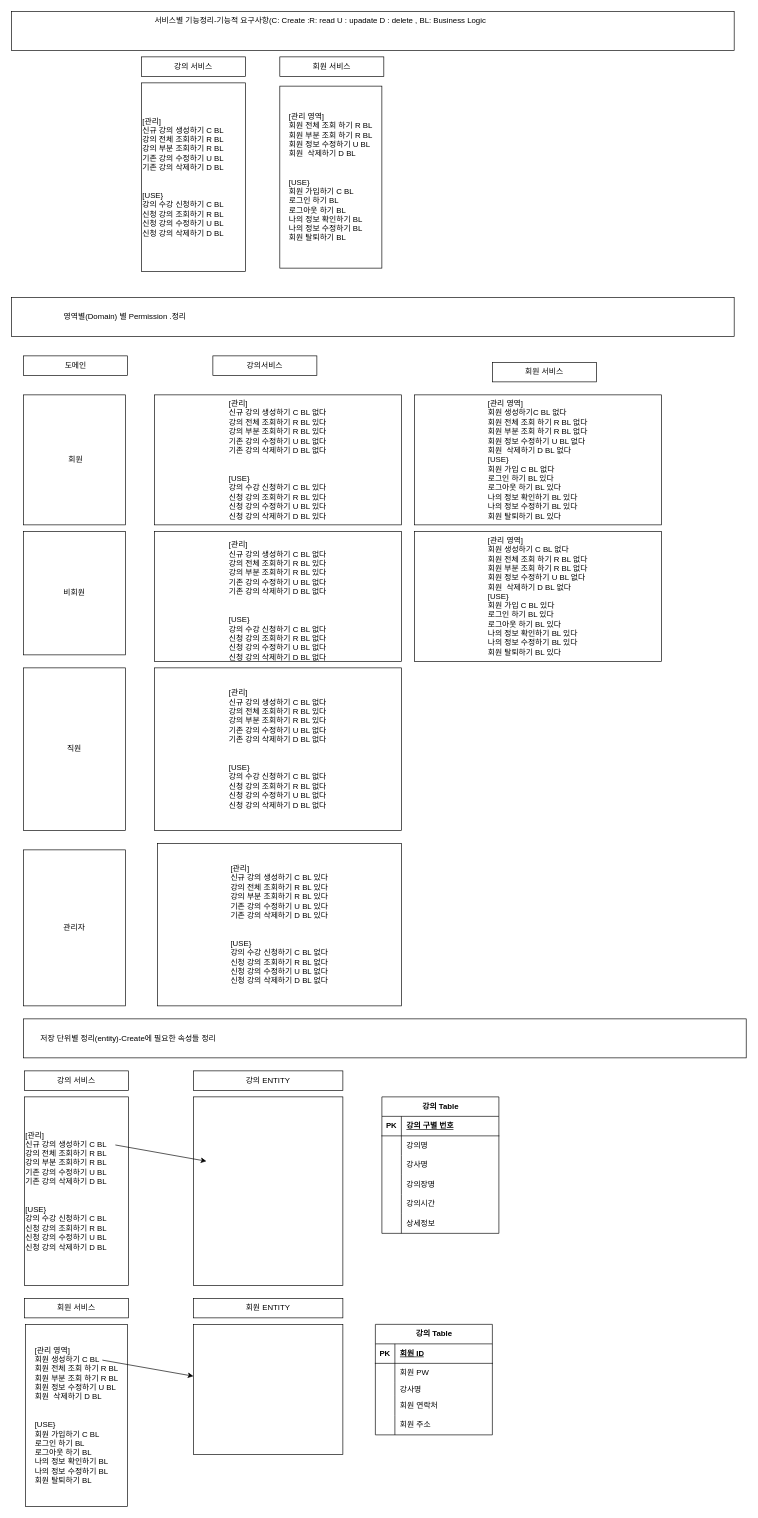
This 758x1518 diagram has some shape labels left out. Each missing label, with the centre of its shape:
[Atritute] 강의 구별 번호(PK) 강의명 강사명 강의장명 강의시간 상세정보: pixel 268 1190
[attribute] 회원 ID 회원 PW 회원 이름 회원 연락처 회원 주소: pixel 268 1389
